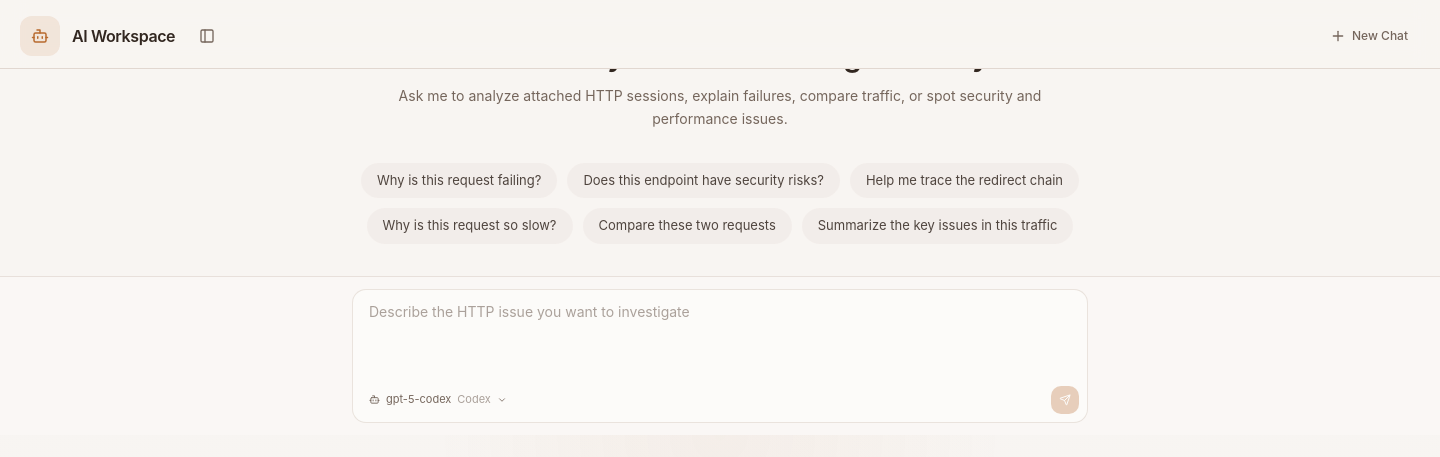
Test: AIWorkspacePage › does not render Invalid Date for legacy conversation timestamps
The image size is (1440, 457).
What coordinates should you click on to do the following:
click the button titled "Conversations"
I would click on:
 (207, 36)
Its box is [191,20,223,52].
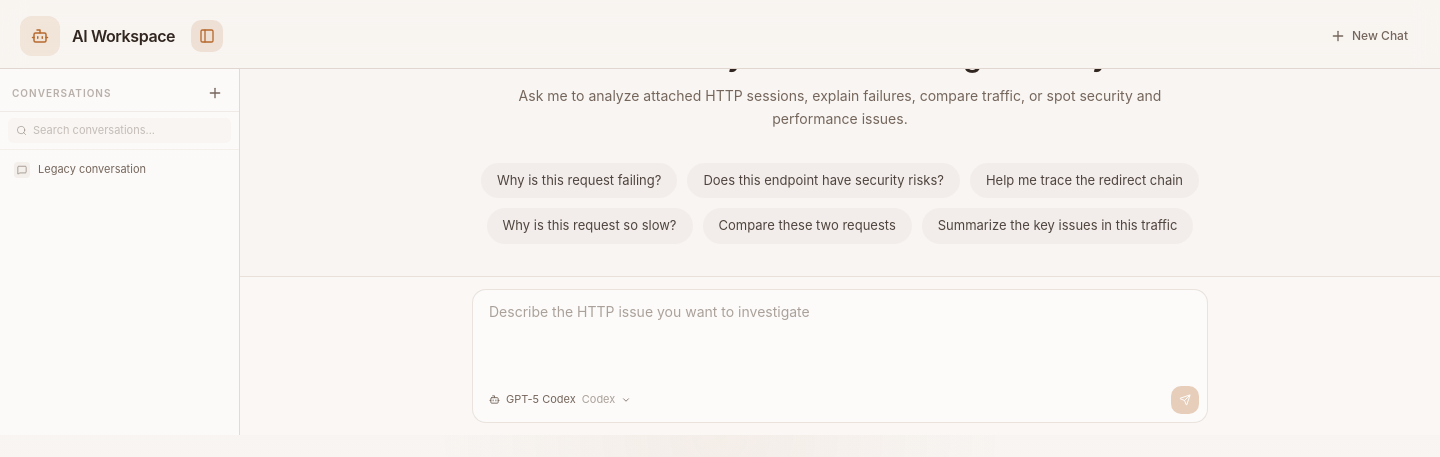
Expected: the text "Legacy conversation" is shown, [38,162,146,176]
